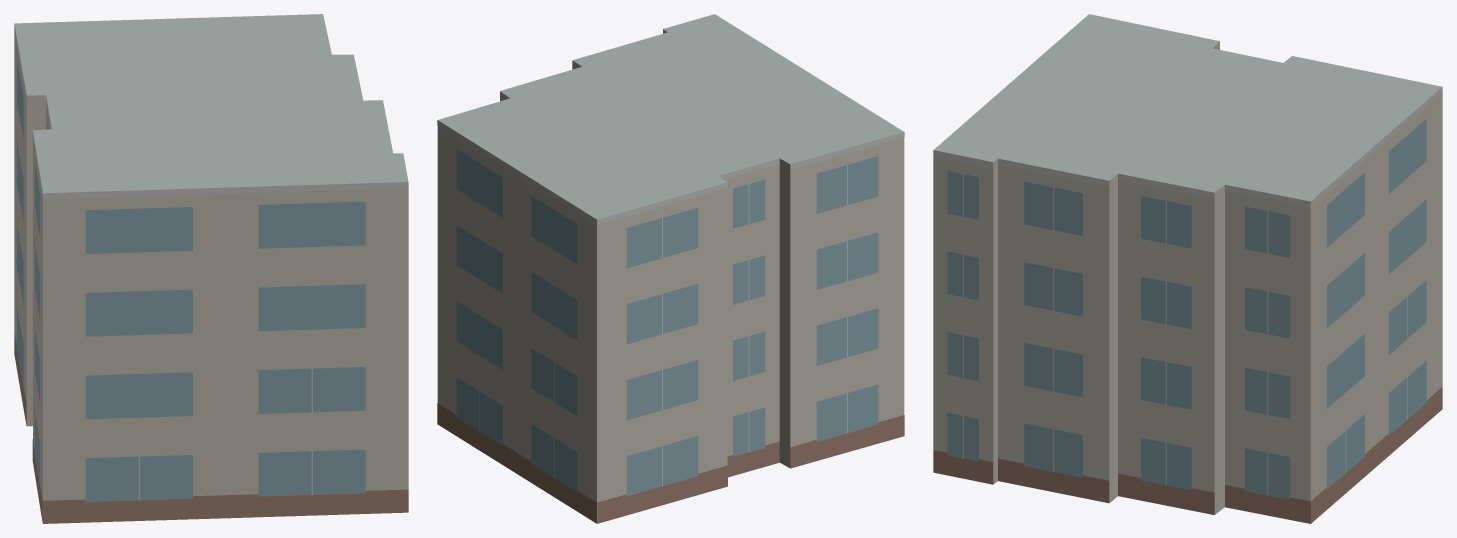
File: survey-upis-32810088.glb
3 views of the same model, side by side, from view 1: azimuth 30°, elevation 25°; view 2: azimuth 150°, elevation 25°; view 3: azimuth 270°, elevation 25° (orthographic). The views are drawn at different scales.
Visible parts, largest first — view 1: survey-upis-32810088.tmp; view 2: survey-upis-32810088.tmp; view 3: survey-upis-32810088.tmp.
Part boxes in pixels (x1,y1,x2,y2): survey-upis-32810088.tmp: (14,14,408,523); survey-upis-32810088.tmp: (437,14,904,523); survey-upis-32810088.tmp: (933,14,1442,523).
Bounding box in the file's own units: 16.09 × 12.9 × 18.47.
